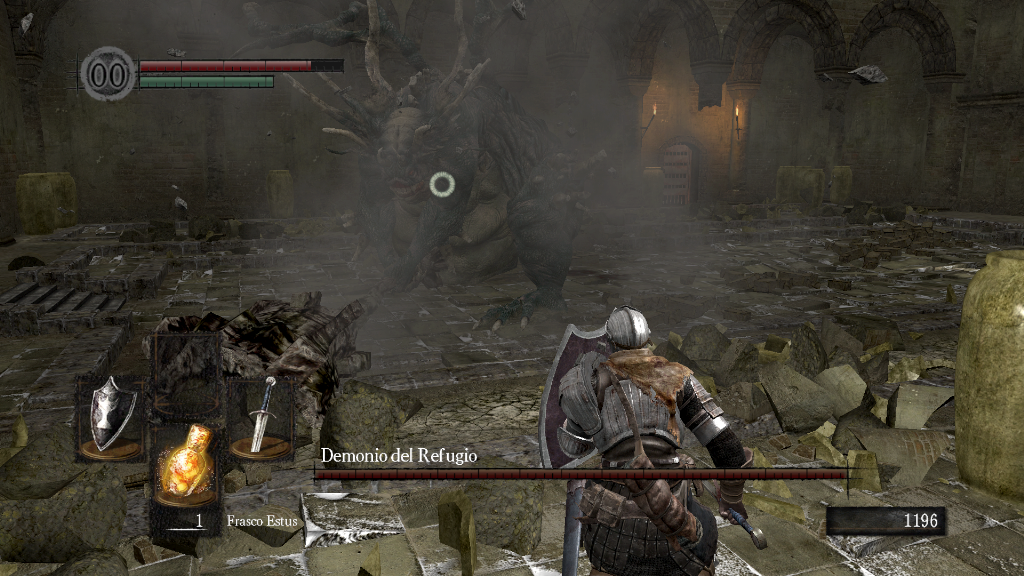asylumDemon: (146, 4, 613, 416)
bossHP: (314, 469, 847, 479)
health: (138, 58, 343, 71)
humanity: (80, 45, 136, 102)
player: (538, 306, 770, 576)
souls: (825, 506, 945, 536)
stamina: (138, 74, 274, 88)
